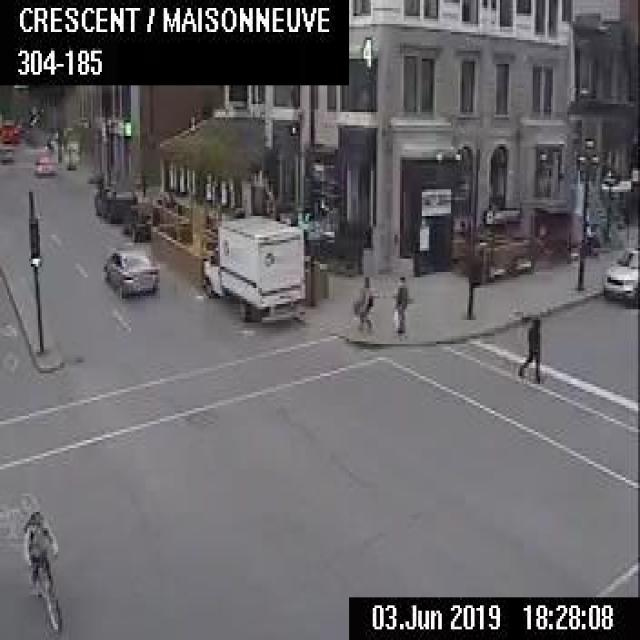cyclist: (20, 504, 64, 637)
pedestrian: (514, 315, 542, 381), (355, 272, 372, 331), (391, 272, 406, 333)
vehicle: (200, 213, 307, 323), (102, 245, 159, 298), (600, 244, 638, 306), (92, 181, 138, 220), (122, 200, 161, 239), (32, 152, 55, 174), (0, 117, 16, 141), (0, 143, 15, 161)
